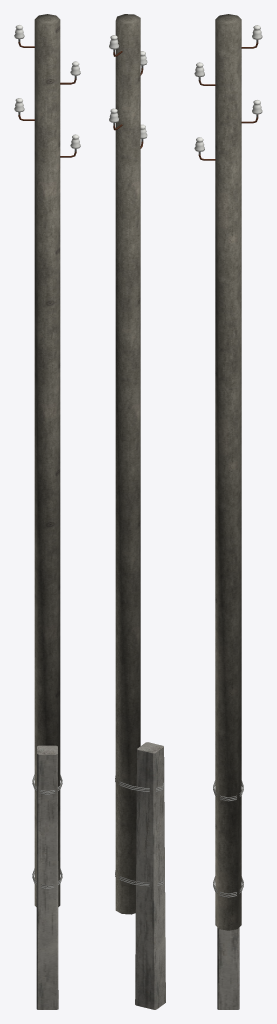
The model's file is pole_wood_lod1_web.glb.
3 renders of one model, left to right at view 1: azimuth 90°, elevation 25°; view 2: azimuth 150°, elevation 25°; view 3: azimuth 270°, elevation 25°, orthographic. The views are drawn at different scales.
Visible parts, largest first — view 1: PoleWood_Mesh; view 2: PoleWood_Mesh; view 3: PoleWood_Mesh.
Part boxes in pixels (bbox=[...]): PoleWood_Mesh: bbox=[14, 14, 80, 1009]; PoleWood_Mesh: bbox=[109, 14, 165, 1009]; PoleWood_Mesh: bbox=[194, 14, 262, 1009].
Bounding box in the file's own units: 0.4469 × 8.8 × 0.5457.
Materials: 5 (4 with a texture image).
